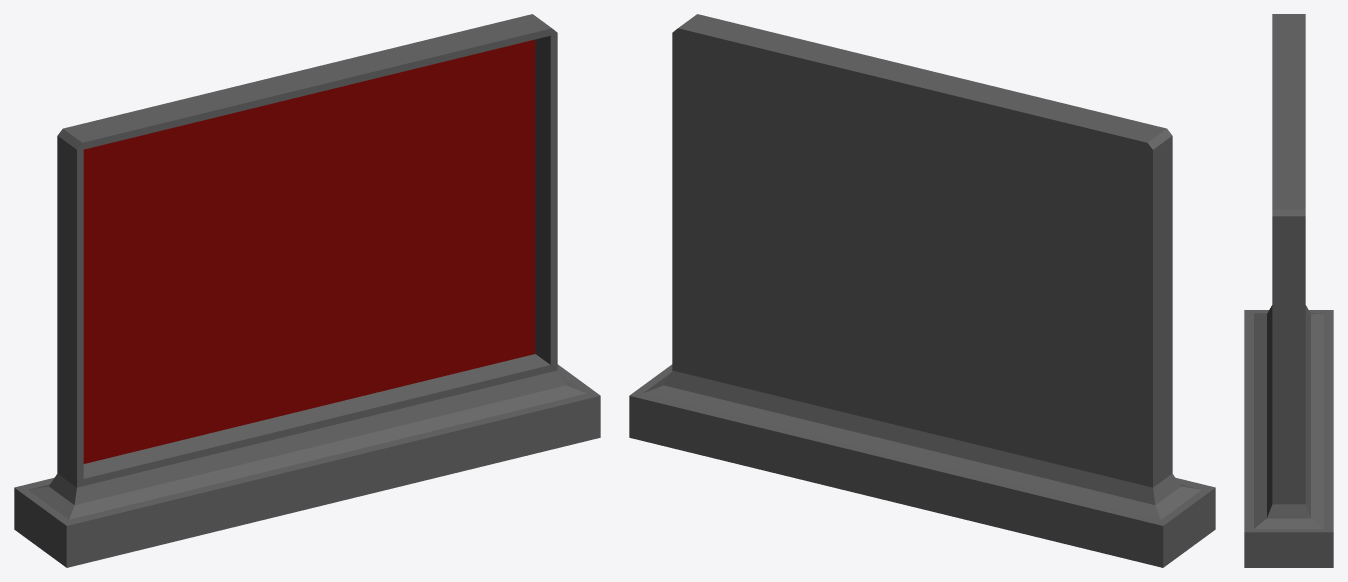
Rendered from poster.fbx.
3 views of the same model, side by side, from view 1: azimuth 30°, elevation 25°; view 2: azimuth 150°, elevation 25°; view 3: azimuth 270°, elevation 25° (orthographic). The views are drawn at different scales.
Parts seen in each view (by area): view 1: Cube.053; view 2: Cube.053; view 3: Cube.053.
Part boxes in pixels (x1,y1,x2,y2): Cube.053: (14,14,600,567); Cube.053: (629,14,1215,567); Cube.053: (1244,14,1333,567).
Bounding box in the file's own units: 400 × 290 × 68.23.
